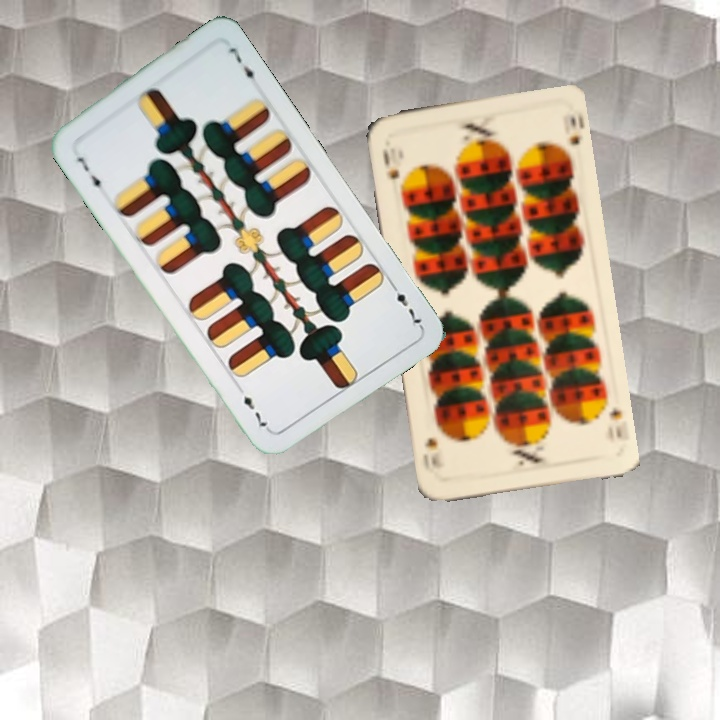E7: (386, 278, 425, 330), (72, 152, 105, 196)
S10: (604, 403, 630, 441), (378, 145, 402, 182)
